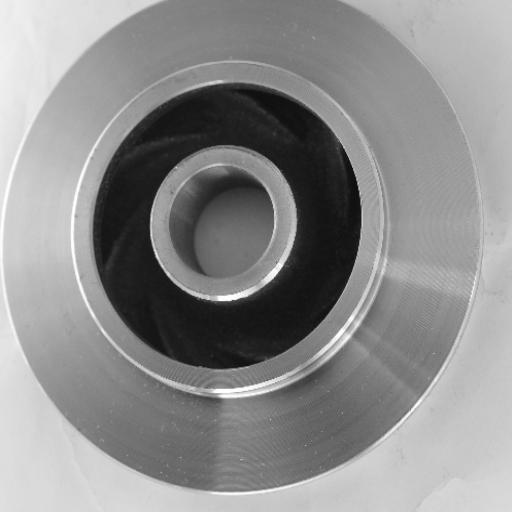polished_casting: (3, 0, 484, 495)
